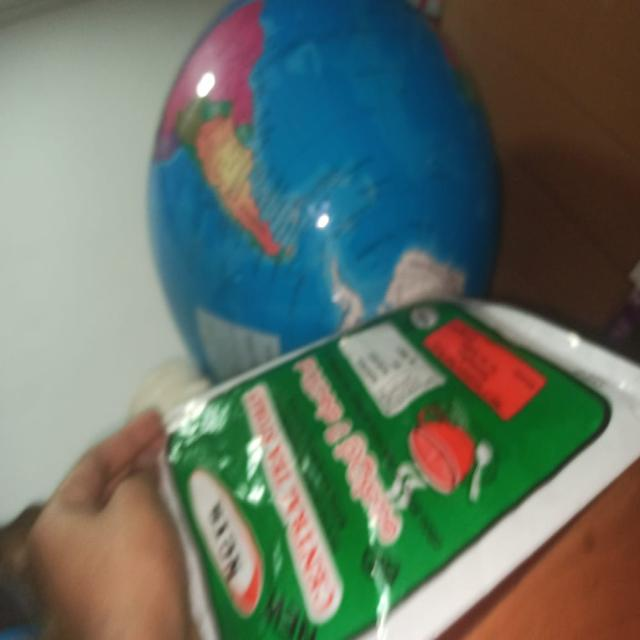Central Tea: (151, 343, 631, 640)
